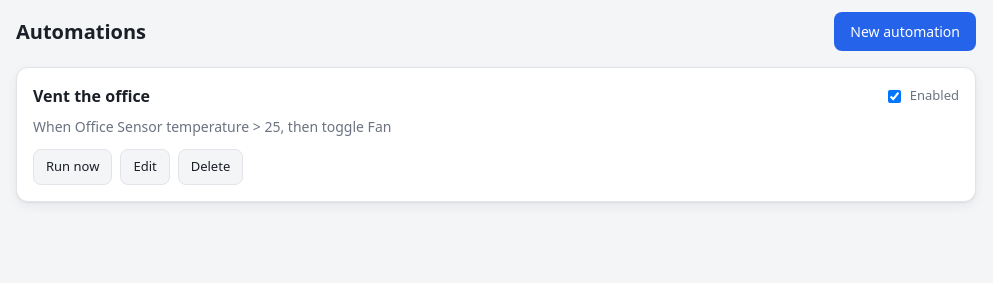
Test: AutomationsPage › runs an automation on demand and reports it
expect the text "Vent the office" is shown: met, box [33, 84, 150, 108]
Click the button "Run now".
click(73, 167)  # box [33, 149, 112, 184]
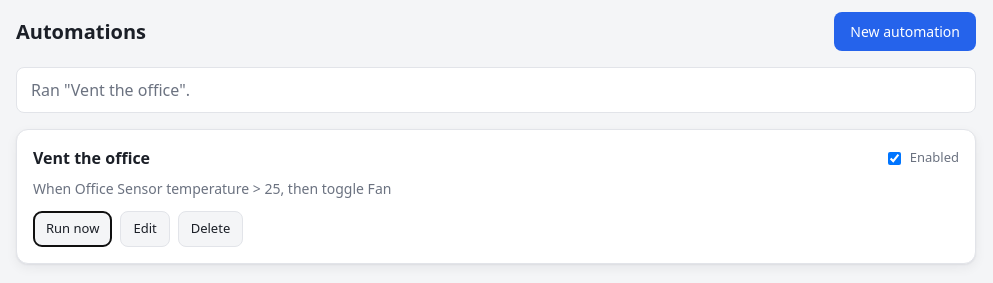
expect the message shows "Ran \"Vent the office\"": met, box [31, 79, 190, 101]
